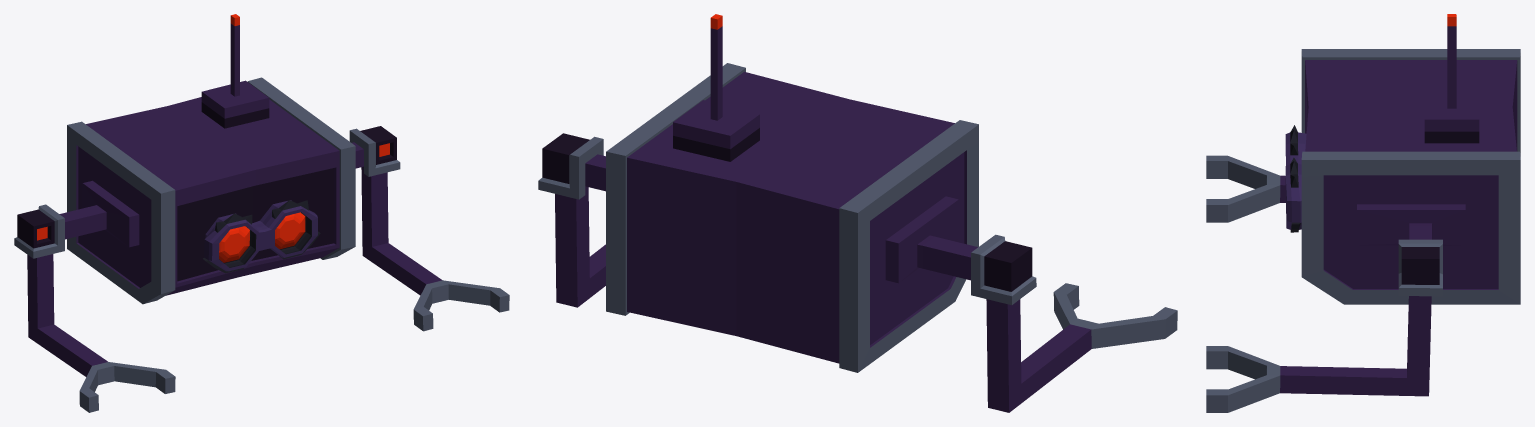
The model's file is Riven_Robit.fbx.
3 views of the same model, side by side, from view 1: azimuth 30°, elevation 25°; view 2: azimuth 150°, elevation 25°; view 3: azimuth 270°, elevation 25° (orthographic). The views are drawn at different scales.
Visible parts, largest first — view 1: Cube.208; view 2: Cube.208; view 3: Cube.208.
Part boxes in pixels (x1=…): Cube.208: x1=14, y1=14, x2=509, y2=412; Cube.208: x1=538, y1=14, x2=1177, y2=412; Cube.208: x1=1206, y1=14, x2=1520, y2=412.
Size of the model in its own units: 170 by 101 by 94.23.
